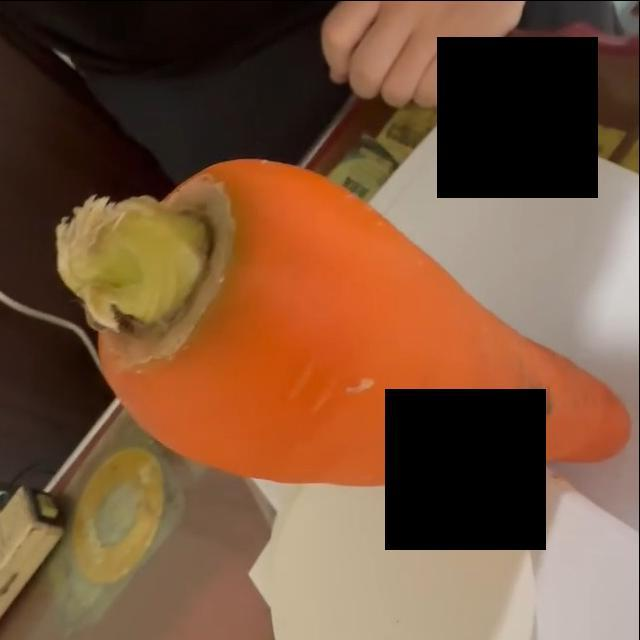carrot: (64, 154, 634, 491)
